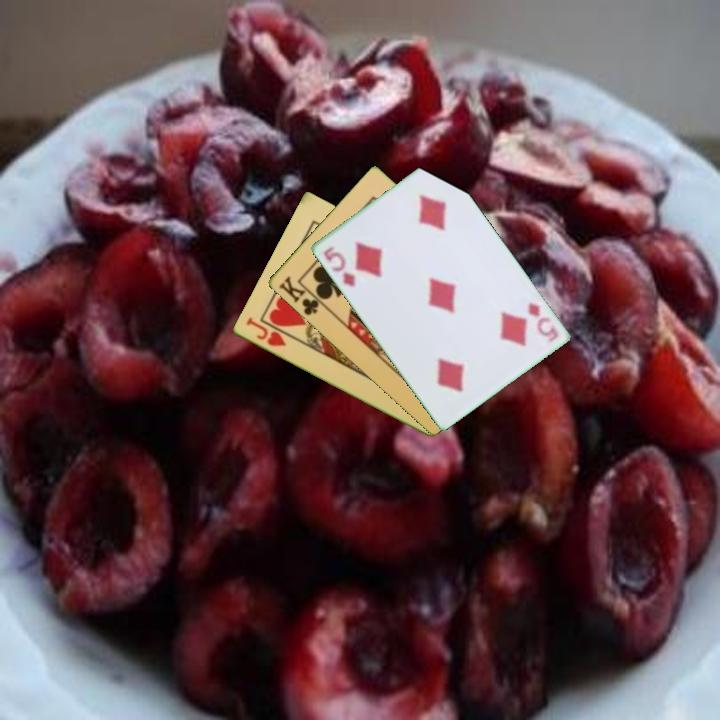5d: (320, 242, 358, 290), (524, 298, 561, 345)
Jh: (242, 314, 289, 350)
Kc: (275, 272, 327, 318)
